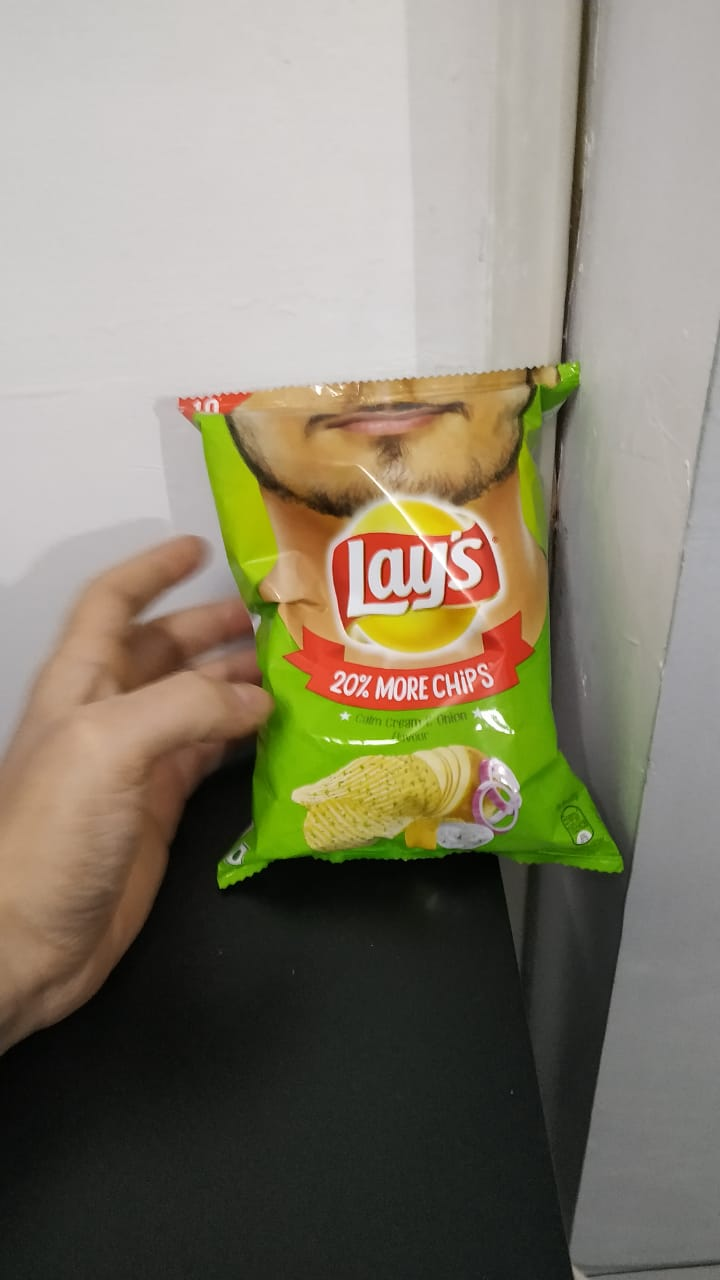lays chips: (182, 368, 625, 898)
